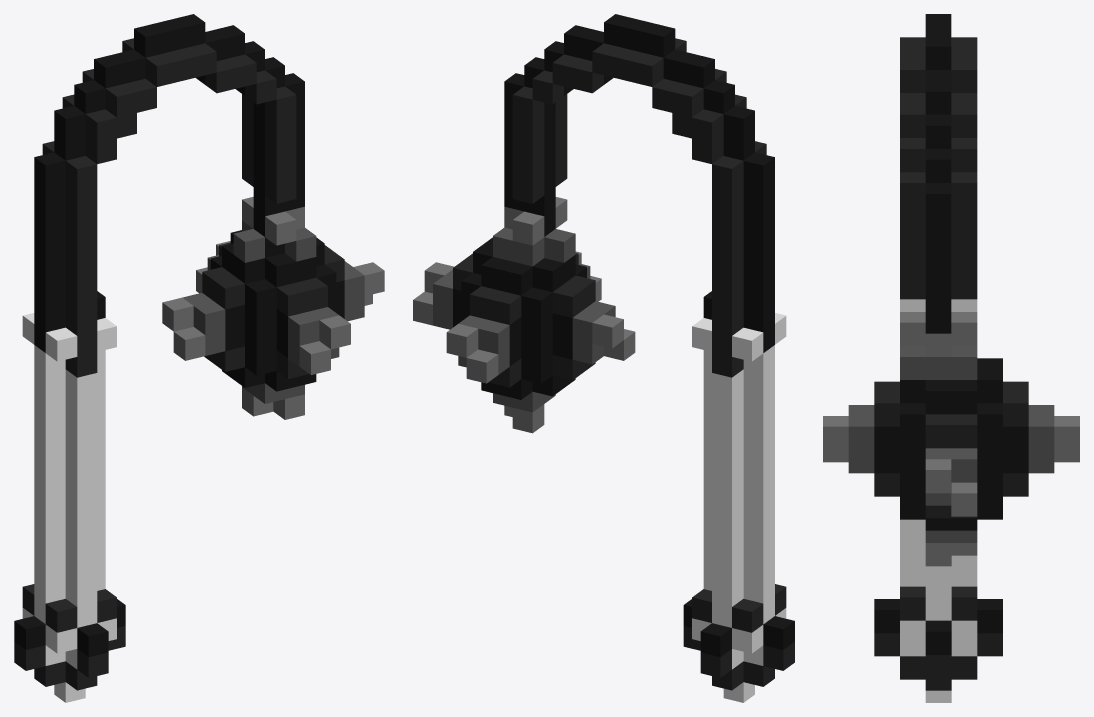
Rendered from weapon_flail.glb.
The picture shows the model from 3 angles, left to right: view 1: azimuth 30°, elevation 25°; view 2: azimuth 150°, elevation 25°; view 3: azimuth 270°, elevation 25°; orthographic projection. The views are drawn at different scales.
Parts seen in each view (by area): view 1: weapon_flail; view 2: weapon_flail; view 3: weapon_flail.
Part boxes in pixels (x1,y1,x2,y2): weapon_flail: (14, 14, 384, 702); weapon_flail: (413, 14, 794, 702); weapon_flail: (823, 14, 1079, 702).
Bounding box in the file's own units: 1.8 × 3.1 × 1.
1 material, 1 textured.
